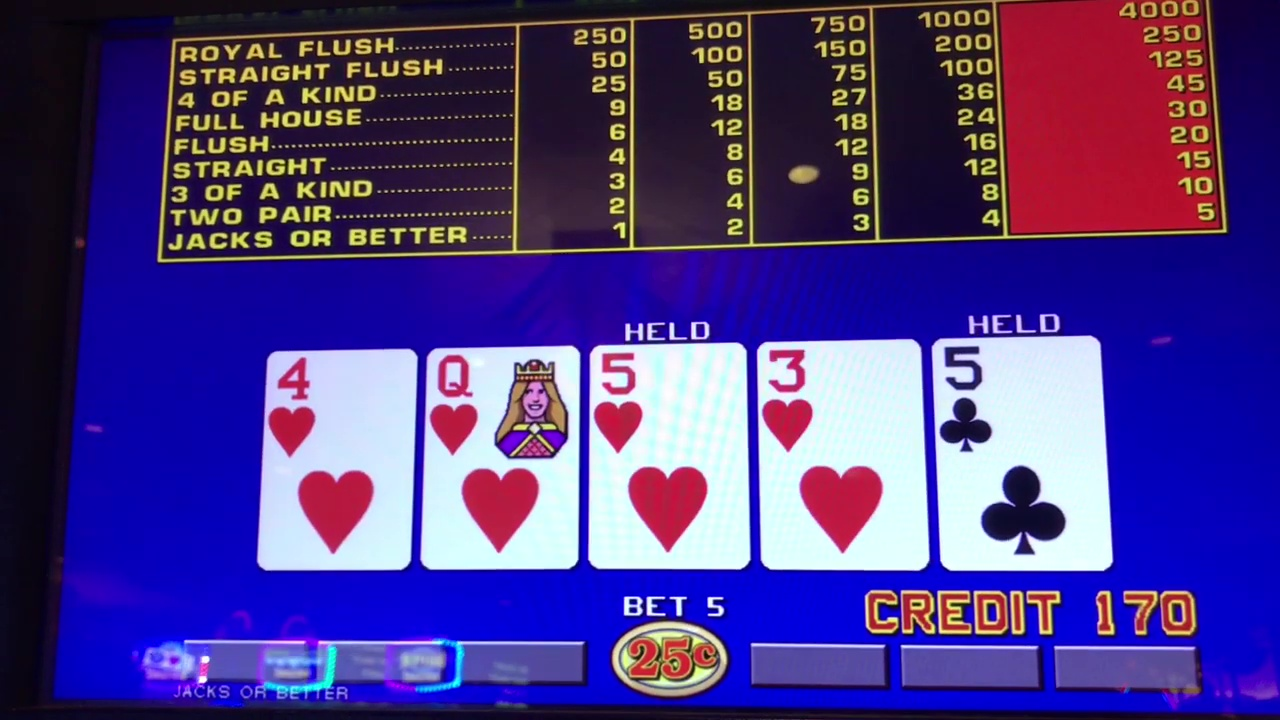C5: (938, 338, 1102, 564)
H3: (763, 344, 923, 568)
H4: (268, 353, 413, 564)
H5: (594, 349, 740, 567)
HQ: (430, 352, 569, 565)
